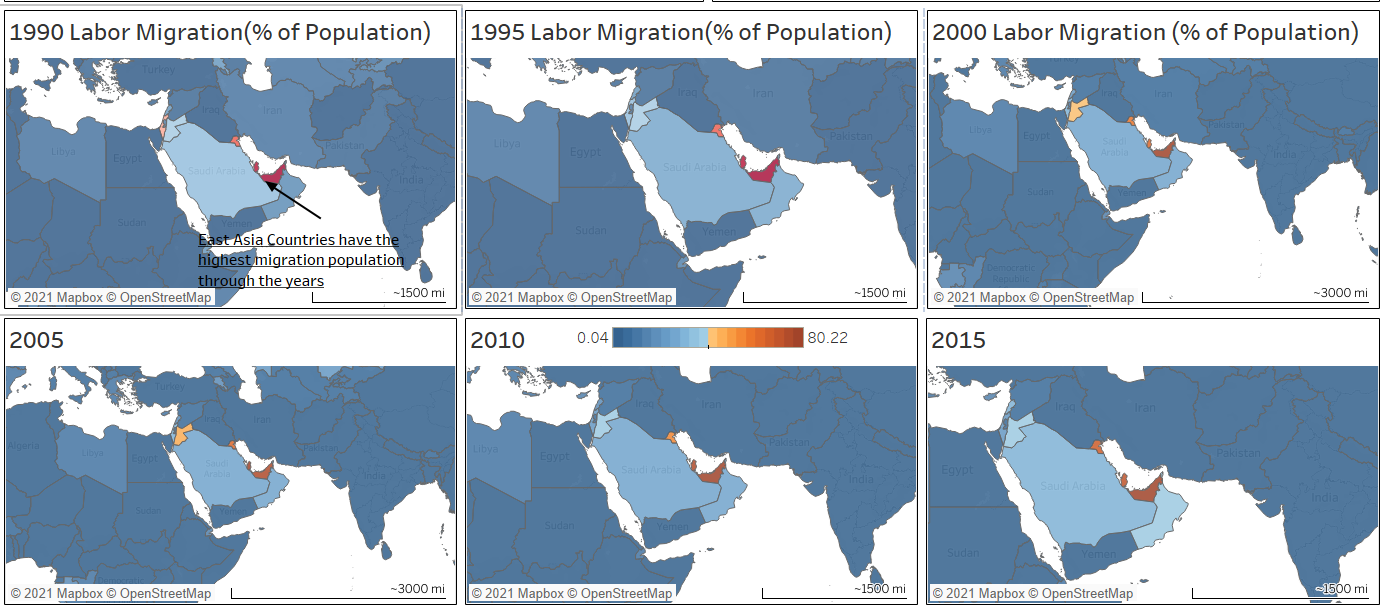

The page's visual inventory and layout, read from the dashboard file:
{"tool":"tableau","page":{"name":"Dashboard 1 (2)","canvas":[1000,1000],"units":"permille","ordinal":0},"visuals":[{"type":"worksheet","title":"IM1990","mark":"Automatic","box":[18,11.6,304.7,332.2]},{"type":"worksheet","title":"IM2000","mark":"Automatic","box":[652,12.8,340.8,333.3]},{"type":"worksheet","title":"IM1995","mark":"Automatic","box":[321.5,26.7,331.1,332.2]},{"type":"legend","title":"IM1990","param":"[federated.0gx17lo0ojp8o31ekgbgw0llpr6u].[sum:1990:qk]","box":[127.4,351.9,123.2,48.8]},{"type":"worksheet","title":"IM2015","mark":"Automatic","box":[653.9,355.4,337.7,332.2]},{"type":"worksheet","title":"IM2010","mark":"Automatic","box":[322.1,357.7,332.9,332.2]},{"type":"worksheet","title":"IM2005","mark":"Automatic","box":[10.8,360.1,311.9,332.2]}]}

Visuals, with their boxes on the dashboard's canvas, which has no fixed pixel size, in thousandths of its width and height (x1, y1, x2, y2). These are canvas units, not pixel positions in the 1387x611 screenshot, which may show the page scaled, cropped or inside an application window:
"IM1990" worksheet: [18,12,323,344]
"IM2000" worksheet: [652,13,993,346]
"IM1995" worksheet: [322,27,653,359]
"IM1990" legend: [127,352,251,401]
"IM2015" worksheet: [654,355,992,688]
"IM2010" worksheet: [322,358,655,690]
"IM2005" worksheet: [11,360,323,692]
